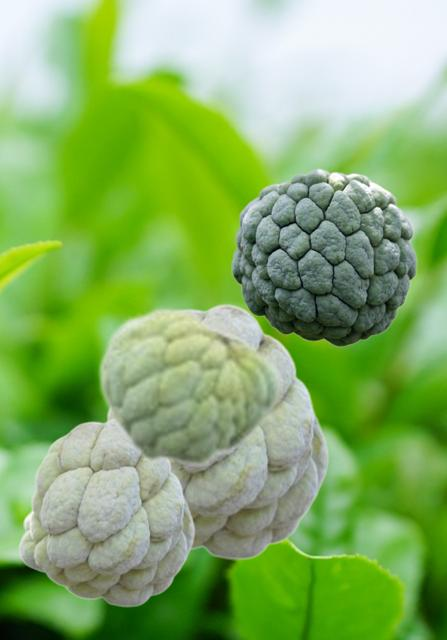atis: (104, 303, 328, 559), (231, 168, 416, 346), (18, 419, 194, 606), (96, 305, 281, 468)
